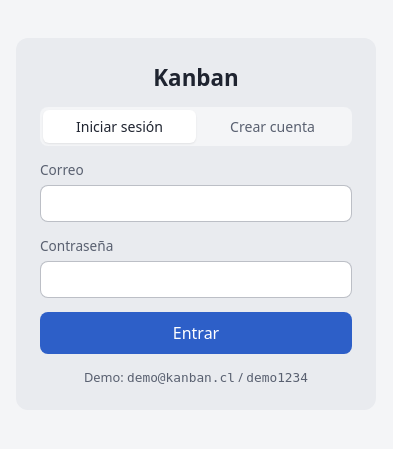
it: pantalla de acceso › cambiar de pestaña limpia el error anterior
Click the button "Entrar". click: x=196, y=333
box: [40, 312, 352, 354]
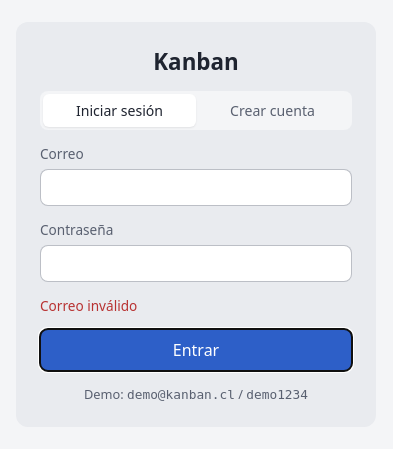
Expected: the message "Correo inválido" is shown, [40, 296, 137, 314]
Click the tab "Crear cuenta". click: x=272, y=110
box: [196, 94, 349, 126]
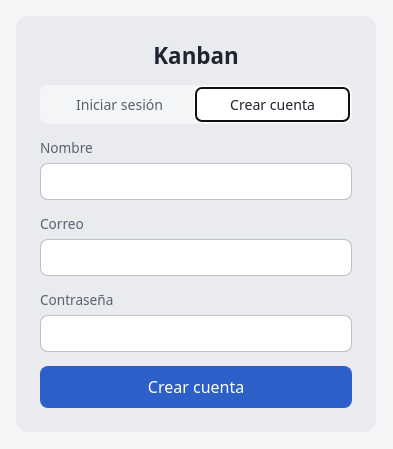
Expected: the message "Correo inválido" is gone
